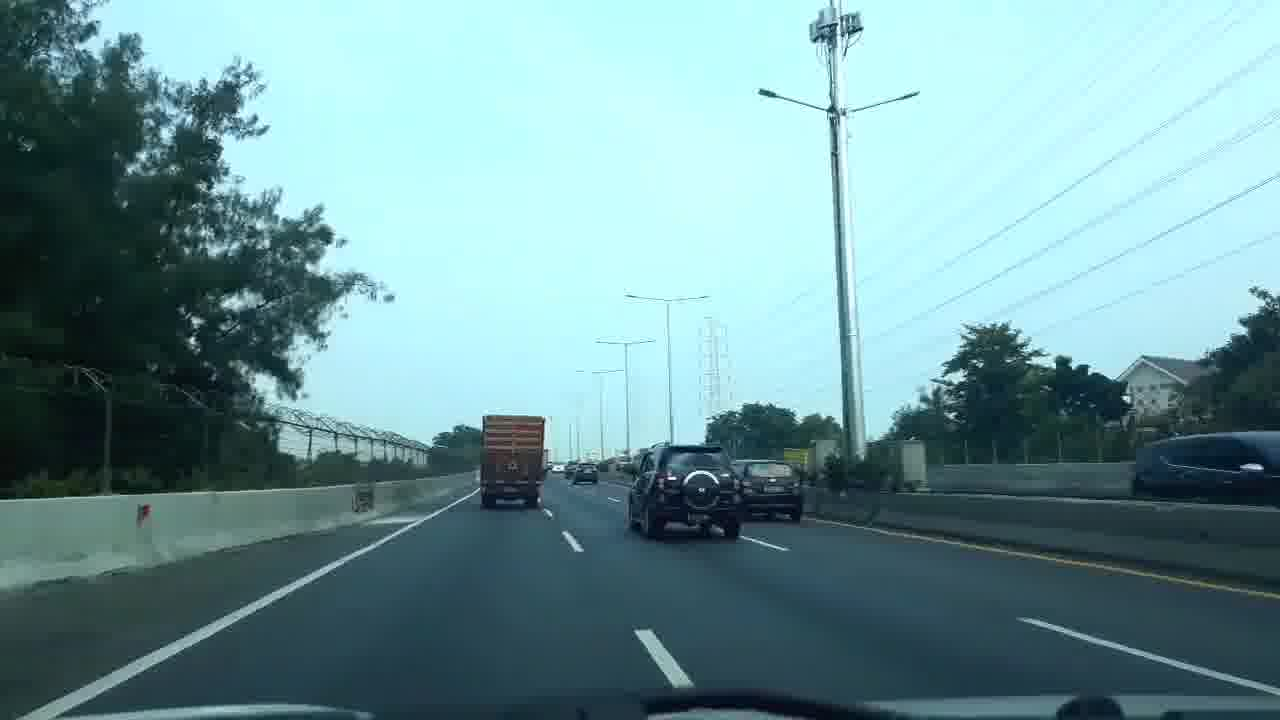plate_positive: (687, 512, 711, 520), (762, 485, 785, 493)
